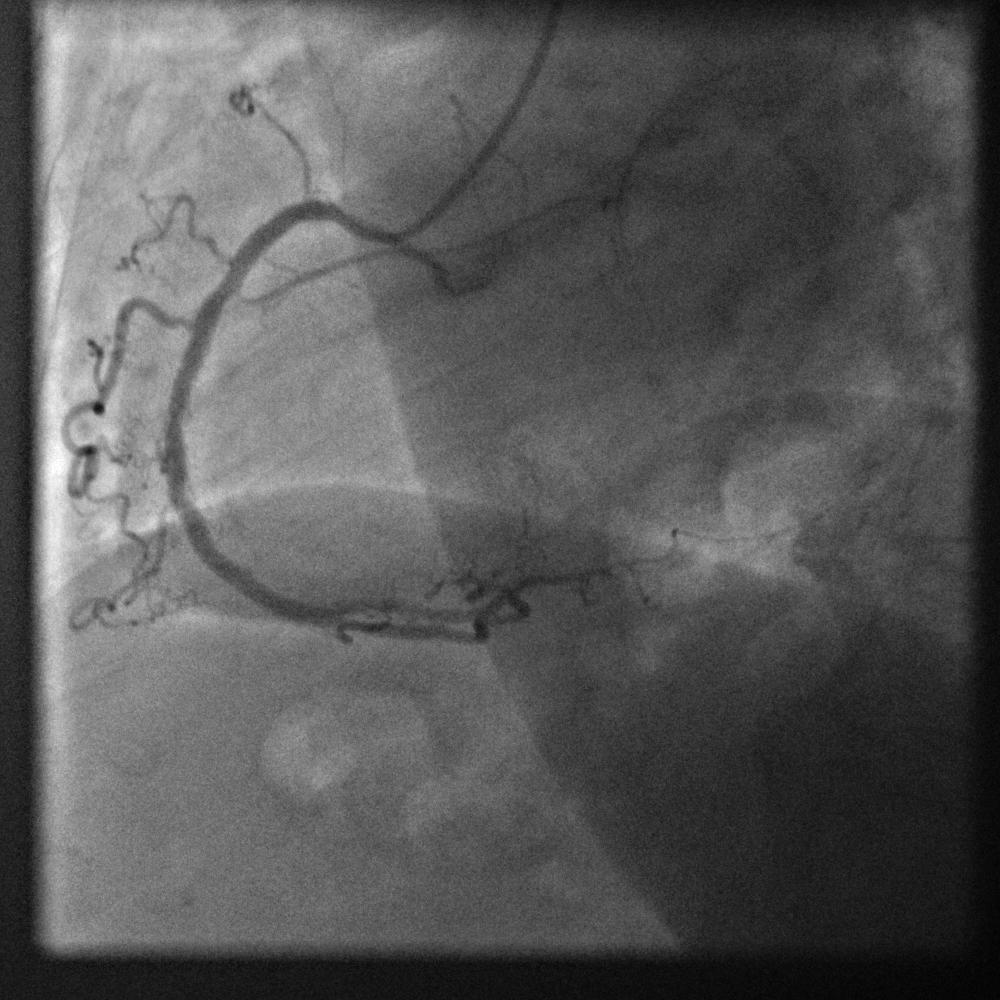Stenosis: (204, 242, 247, 314)
